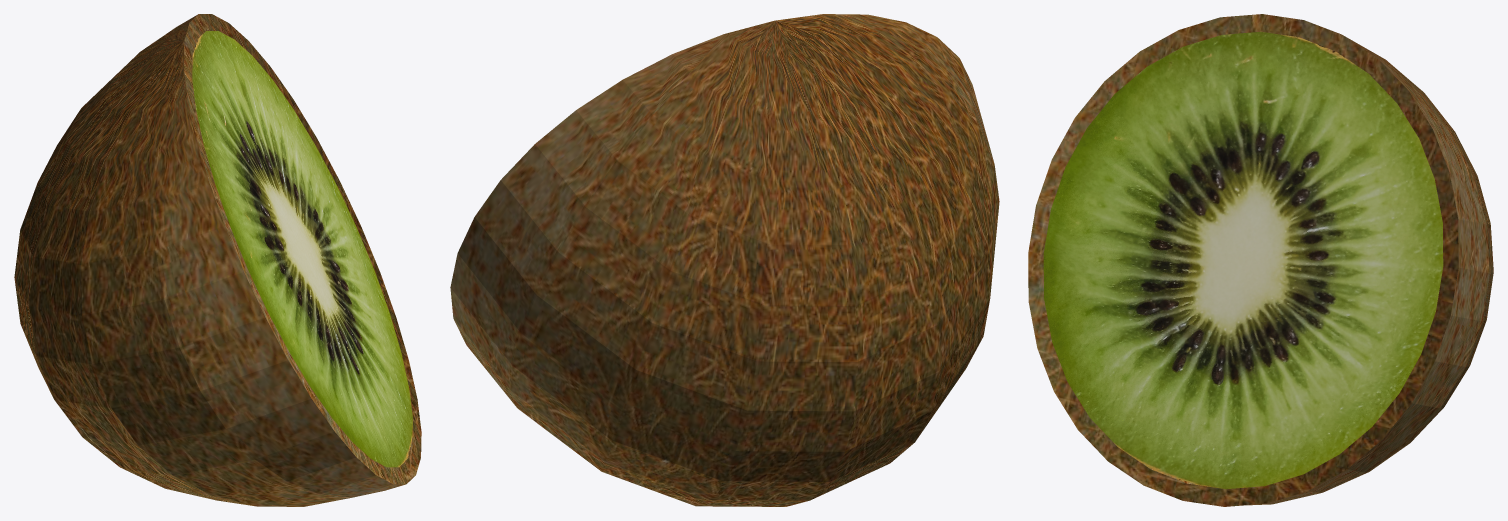
File: Kiwi.fbx
3 renders of one model, left to right at view 1: azimuth 30°, elevation 25°; view 2: azimuth 150°, elevation 25°; view 3: azimuth 270°, elevation 25°, orthographic. The views are drawn at different scales.
Parts seen in each view (by area): view 1: Kiwi; view 2: Kiwi; view 3: Kiwi.
Boxes of the visible parts, x1,y1,x2,y2 form: Kiwi: [14, 14, 421, 506]; Kiwi: [450, 14, 999, 506]; Kiwi: [1028, 14, 1493, 506].
Bounding box in the file's own units: 129 × 142 × 140.
